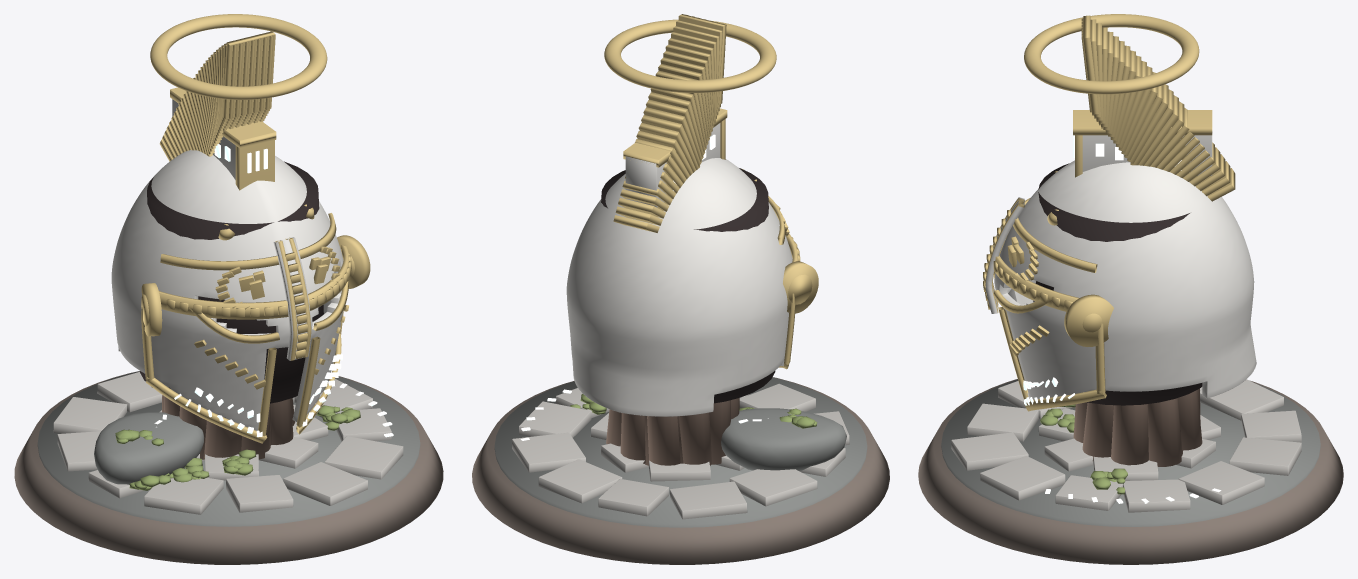
The picture shows the model from 3 angles, left to right: view 1: azimuth 30°, elevation 25°; view 2: azimuth 150°, elevation 25°; view 3: azimuth 270°, elevation 25°; orthographic projection. The views are drawn at different scales.
Visible parts, largest first — view 1: Helmet_Main_Marble_Shell, Base_Pedestal_Rim, Base_Mortar_Bed, Floating_Golden_Halo, Base_Left_Boulder, Helmet_Inner_Void, Base_Flagstone_1_9, Base_Flagstone_1_10, Helmet_Gold_Brow_Band, Base_Flagstone_1_7, Base_Flagstone_1_8, Base_Flagstone_1_4 (+22 smaller); view 2: Helmet_Main_Marble_Shell, Base_Pedestal_Rim, Base_Mortar_Bed, Base_Left_Boulder, Floating_Golden_Halo, Base_Flagstone_1_4, Base_Flagstone_1_5, Base_Flagstone_1_2, Base_Flagstone_1_1, Helmet_Inner_Void, Base_Flagstone_1_3, Base_Flagstone_1_0 (+18 smaller); view 3: Helmet_Main_Marble_Shell, Base_Pedestal_Rim, Base_Mortar_Bed, Floating_Golden_Halo, Helmet_Inner_Void, Base_Flagstone_1_10, Base_Flagstone_1_1, Wooden_Stand_Rib_0, Base_Flagstone_1_2, Wooden_Stand_Rib_1, Base_Flagstone_1_9, Base_Flagstone_1_0 (+24 smaller).
Part boxes in pixels (left/top/right/bottom): Helmet_Main_Marble_Shell: left=111, top=150, right=343, bottom=430; Base_Pedestal_Rim: left=14, top=371, right=443, bottom=564; Base_Mortar_Bed: left=37, top=371, right=420, bottom=526; Floating_Golden_Halo: left=150, top=14, right=327, bottom=99; Base_Left_Boulder: left=94, top=412, right=204, bottom=484; Helmet_Inner_Void: left=140, top=161, right=323, bottom=403; Base_Flagstone_1_9: left=283, top=462, right=367, bottom=505; Base_Flagstone_1_10: left=325, top=436, right=403, bottom=479; Helmet_Gold_Brow_Band: left=159, top=245, right=348, bottom=319; Base_Flagstone_1_7: left=144, top=477, right=223, bottom=514; Base_Flagstone_1_8: left=226, top=475, right=293, bottom=512; Base_Flagstone_1_4: left=53, top=397, right=127, bottom=433; Helmet_Main_Marble_Shell: left=566, top=158, right=792, bottom=416; Base_Pedestal_Rim: left=472, top=377, right=889, bottom=564; Base_Mortar_Bed: left=494, top=377, right=867, bottom=527; Base_Left_Boulder: left=721, top=408, right=846, bottom=470; Floating_Golden_Halo: left=604, top=19, right=776, bottom=93; Base_Flagstone_1_4: left=669, top=481, right=747, bottom=519; Base_Flagstone_1_5: left=729, top=469, right=817, bottom=506; Base_Flagstone_1_2: left=538, top=459, right=622, bottom=503; Base_Flagstone_1_1: left=512, top=432, right=585, bottom=472; Helmet_Inner_Void: left=601, top=168, right=775, bottom=403; Base_Flagstone_1_3: left=598, top=478, right=668, bottom=516; Base_Flagstone_1_0: left=519, top=401, right=591, bottom=437; Helmet_Main_Marble_Shell: left=994, top=160, right=1256, bottom=399; Base_Pedestal_Rim: left=918, top=379, right=1343, bottom=564; Base_Mortar_Bed: left=941, top=379, right=1320, bottom=526; Floating_Golden_Halo: left=1024, top=14, right=1199, bottom=94; Helmet_Inner_Void: left=1033, top=163, right=1202, bottom=405; Base_Flagstone_1_10: left=980, top=456, right=1065, bottom=500; Base_Flagstone_1_1: left=1178, top=461, right=1264, bottom=504; Wooden_Stand_Rib_0: left=1111, top=404, right=1148, bottom=465; Base_Flagstone_1_2: left=1229, top=437, right=1301, bottom=475; Wooden_Stand_Rib_1: left=1147, top=398, right=1182, bottom=466; Base_Flagstone_1_9: left=951, top=432, right=1028, bottom=470; Base_Flagstone_1_0: left=1123, top=479, right=1190, bottom=512.
Bounding box in the file's own units: 0.8598 × 1 × 0.8598.
